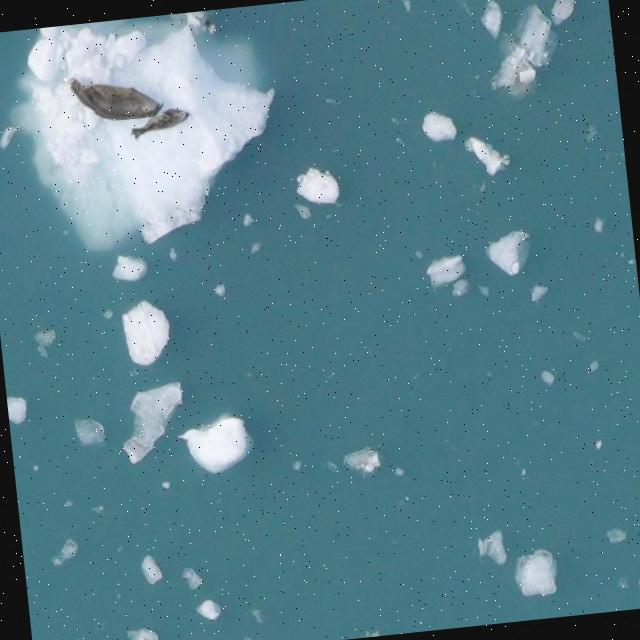seal: (69, 79, 161, 121), (130, 107, 190, 140)
